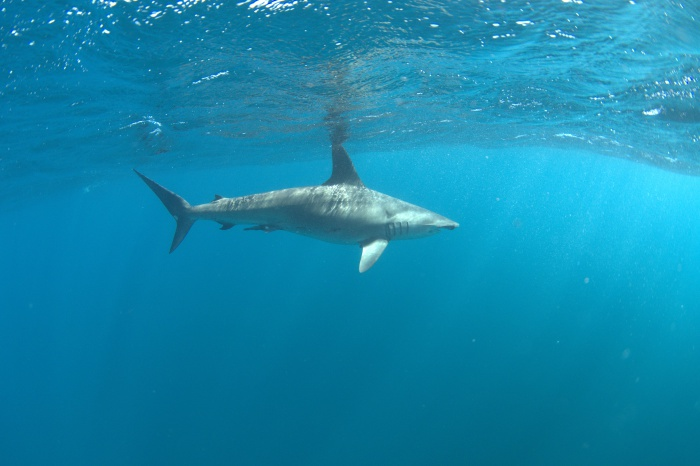Hammer: (126, 138, 472, 285), (298, 160, 555, 287)
